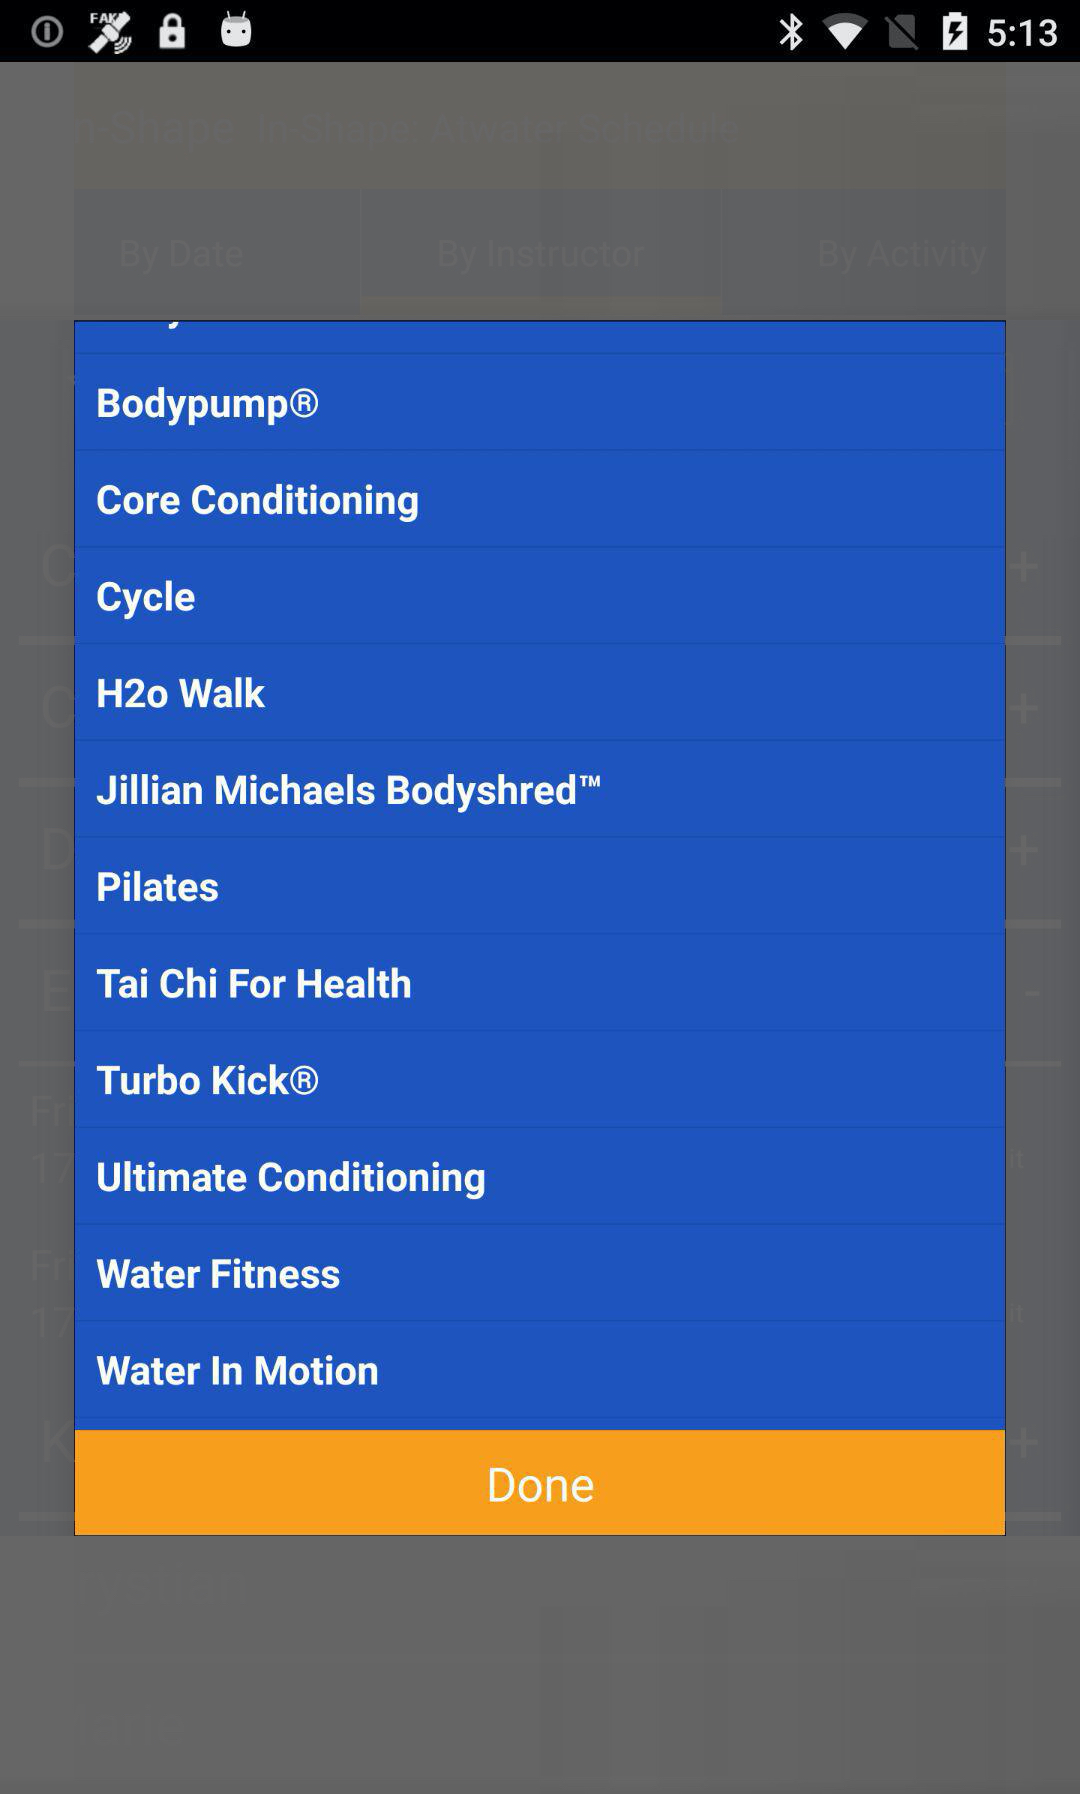Modal: (76, 322, 1004, 1535)
Text: (97, 774, 601, 814), (99, 1161, 486, 1199), (97, 484, 420, 523), (96, 967, 411, 1000), (97, 387, 319, 427), (97, 1356, 386, 1385), (97, 1064, 320, 1096), (97, 1258, 340, 1288), (97, 677, 266, 709), (97, 580, 196, 620), (97, 870, 219, 902)
TextButton: (76, 1430, 1004, 1535)
UpperTaskBar: (1, 1, 1080, 64)
